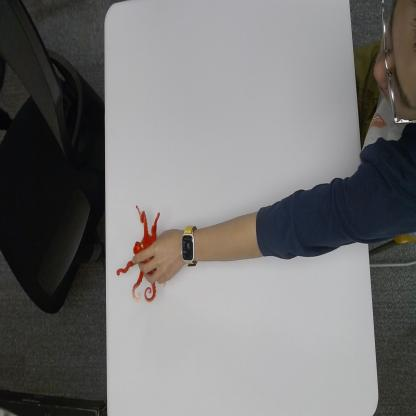Arm: (199, 158, 367, 267)
Hand: (130, 228, 180, 285)
Octopus: (115, 202, 161, 304)
